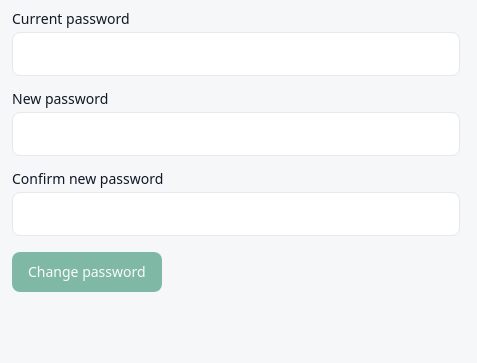
ChangePasswordForm › falls back to a generic error for an unrecognized failure
The width and height of the screenshot is (477, 363).
Type "old-password" into the password field labelled "Current password" at (236, 54), box 12,32 -> 460,76
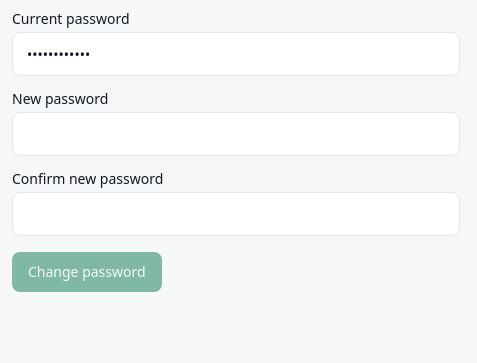
Type "new-password-1" into the password field labelled "New password" at (236, 134), box 12,112 -> 460,156
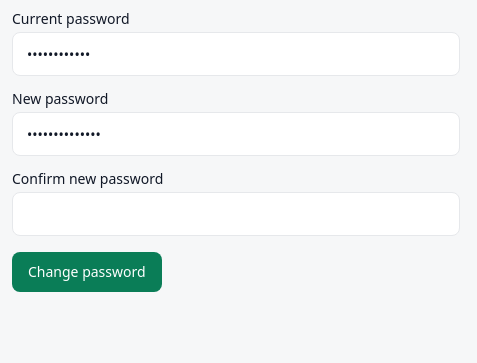
Type "new-password-1" into the password field labelled "Confirm new password" at (236, 214), box 12,192 -> 460,236
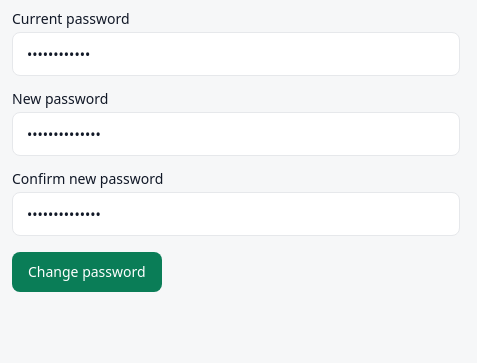
Click the button "Change password" at (87, 272), box 12,252 -> 162,292
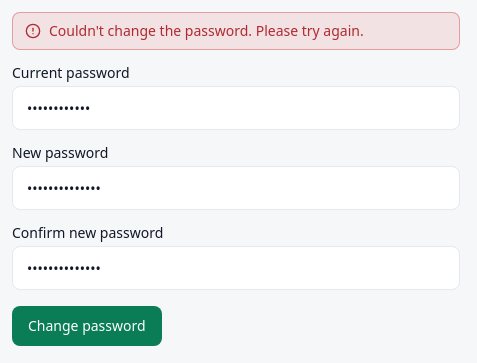
Expected: the message reads "Couldn't change the password. Please try again.", 49,21 -> 364,40
